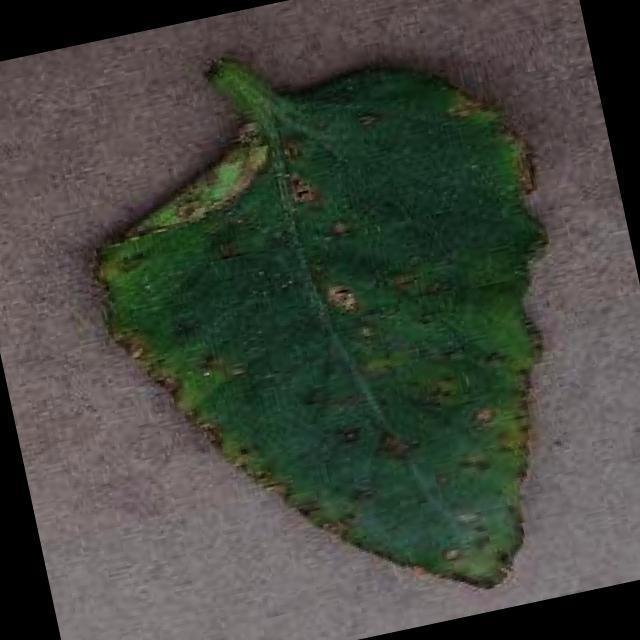Tomato bacterial spot leaf: (52, 31, 620, 640)
